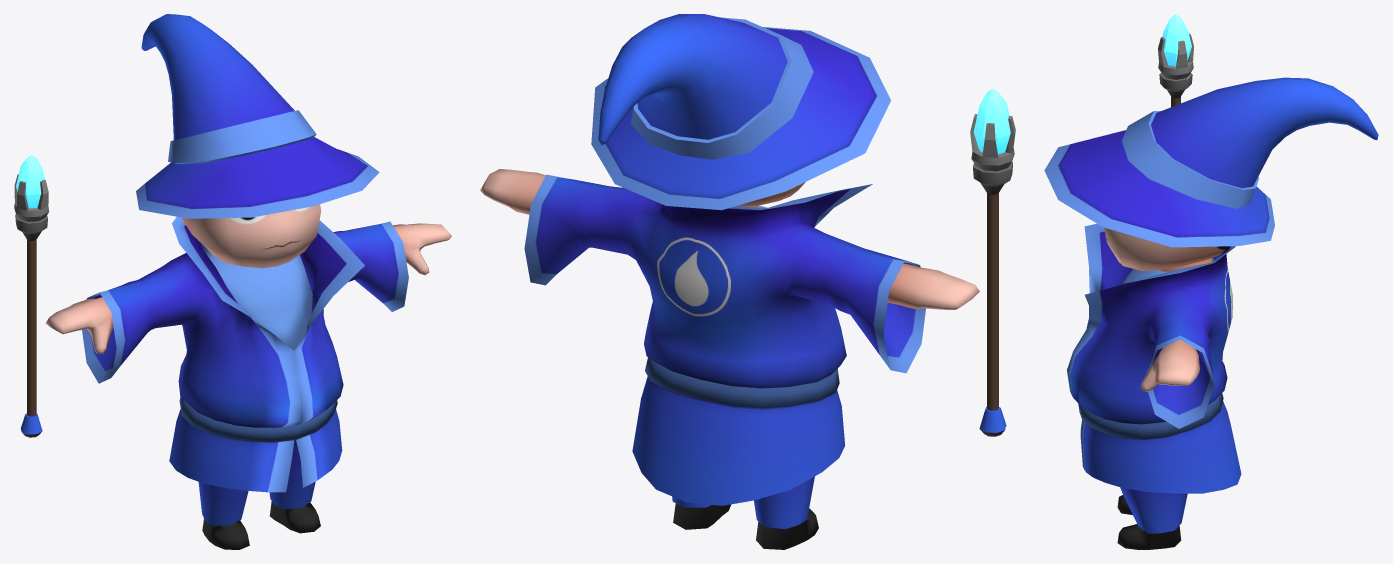
The model's file is Water MAge.fbx.
3 views of the same model, side by side, from view 1: azimuth 30°, elevation 25°; view 2: azimuth 150°, elevation 25°; view 3: azimuth 270°, elevation 25° (orthographic). The views are drawn at different scales.
Parts seen in each view (by area): view 1: Water Mage, Water Hat, Water Stick; view 2: Water Mage, Water Hat, Water Stick; view 3: Water Mage, Water Hat, Water Stick.
Boxes of the visible parts, box(x1,y1,x2,y2) form: Water Mage: box(45, 204, 451, 549); Water Hat: box(136, 14, 379, 218); Water Stick: box(14, 155, 49, 437); Water Mage: box(480, 169, 979, 549); Water Hat: box(591, 14, 890, 210); Water Stick: box(970, 89, 1015, 436); Water Mage: box(1067, 223, 1241, 549); Water Hat: box(1044, 77, 1378, 247); Water Stick: box(1158, 14, 1193, 106).
Size of the model in its own units: 508 by 514 by 350.
Materials: 3 (3 with a texture image).
